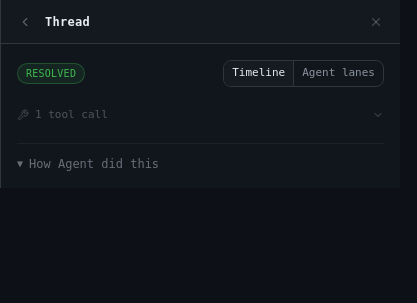
ThreadDetail — consult_agent card › renders the consulted agent name when consult_agent result matches format
Step 1. Click the button "1 tool call" → (71, 114), box [17,102,384,127]
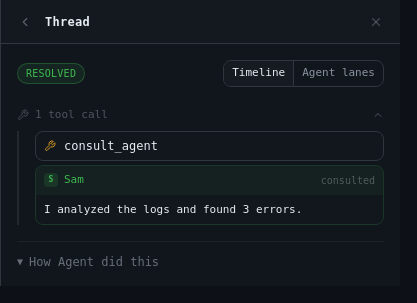
Expected: the text "Sam" is shown, [64,172,84,188]
